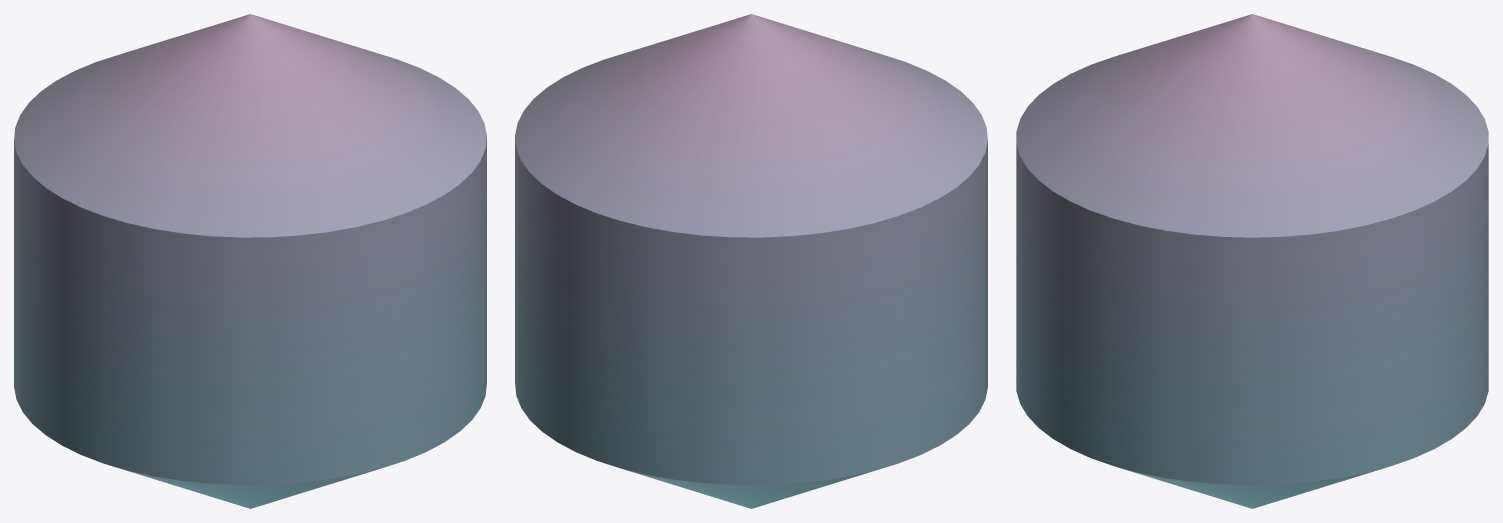
3 views of the same model, side by side, from view 1: azimuth 30°, elevation 25°; view 2: azimuth 150°, elevation 25°; view 3: azimuth 270°, elevation 25° (orthographic).
Visible parts, largest first — view 1: 000_Sphere_-_baked; view 2: 000_Sphere_-_baked; view 3: 000_Sphere_-_baked.
Boxes of the visible parts, <box> form: 000_Sphere_-_baked: <box>14,14,486,508</box>; 000_Sphere_-_baked: <box>515,14,987,508</box>; 000_Sphere_-_baked: <box>1016,14,1488,508</box>.
Size of the model in its own units: 86.6 by 100 by 86.43.
